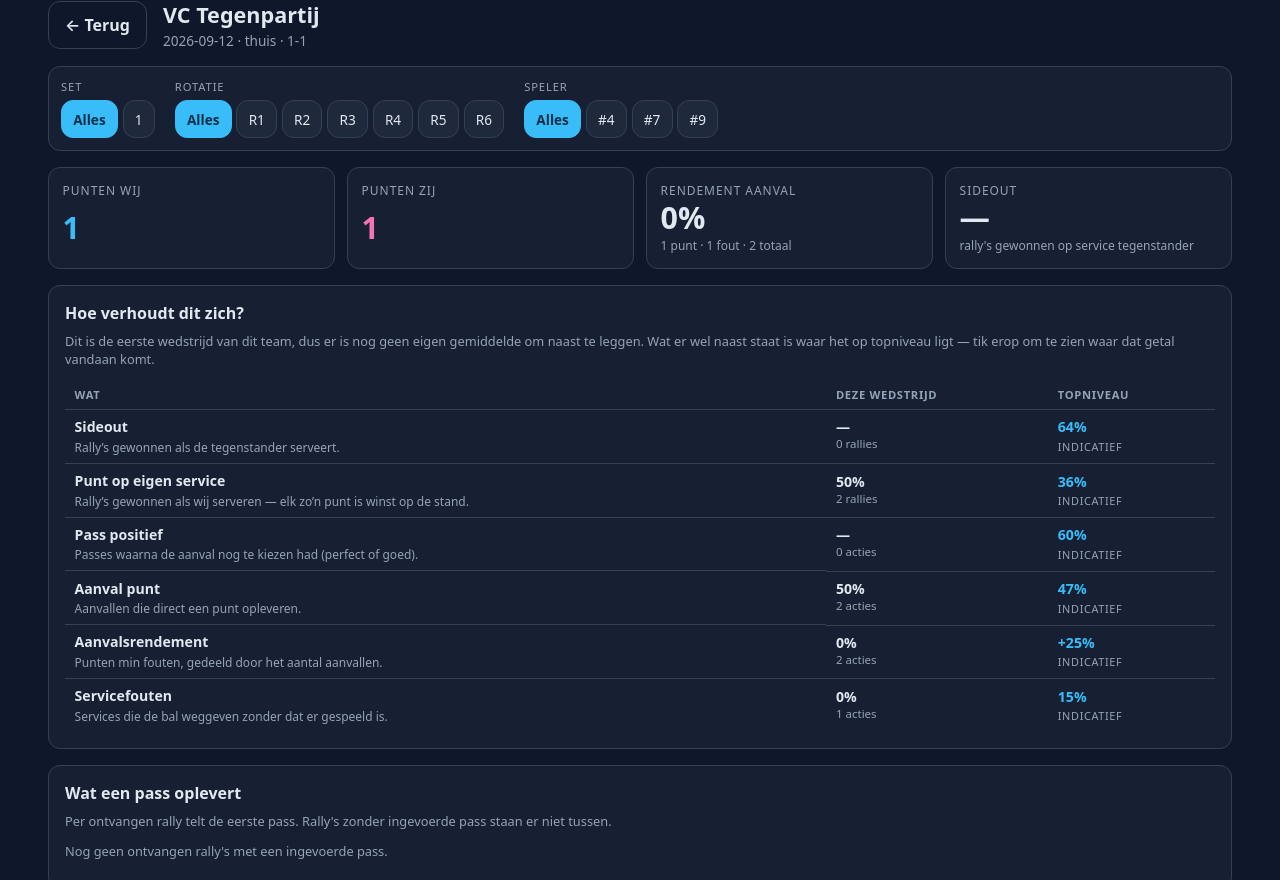
Test: DashboardScreen › rekent opnieuw als er op een rotatie wordt gefilterd
# In rotatie 2 is nog niets gespeeld: alle tellingen vallen terug op nul.
Click the button "R2" at point(302, 119), box x1=282 y1=100 x2=322 y2=138
(page scrolled)
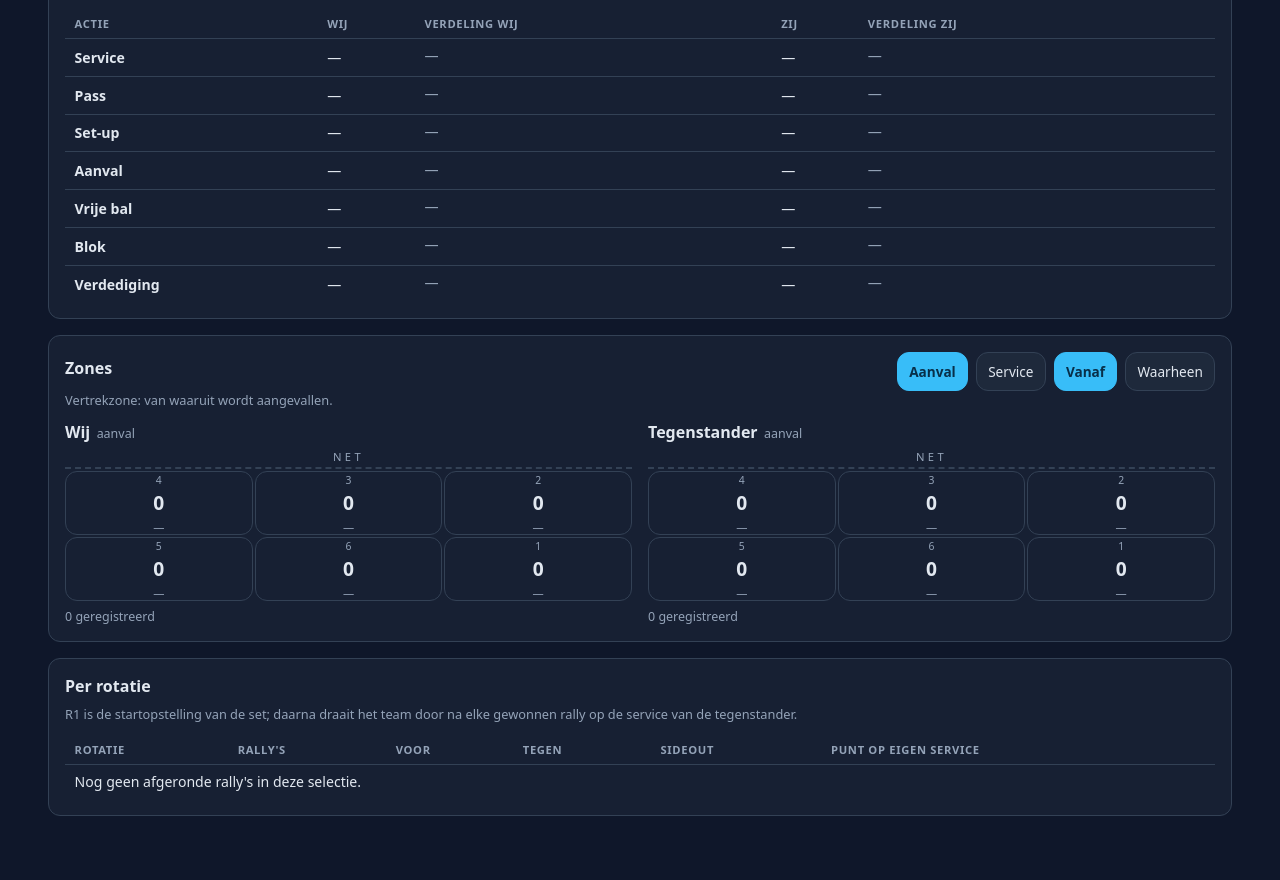
Now the text "Nog geen afgeronde rally's in deze selectie." is shown, box x1=65 y1=765 x2=1215 y2=798
